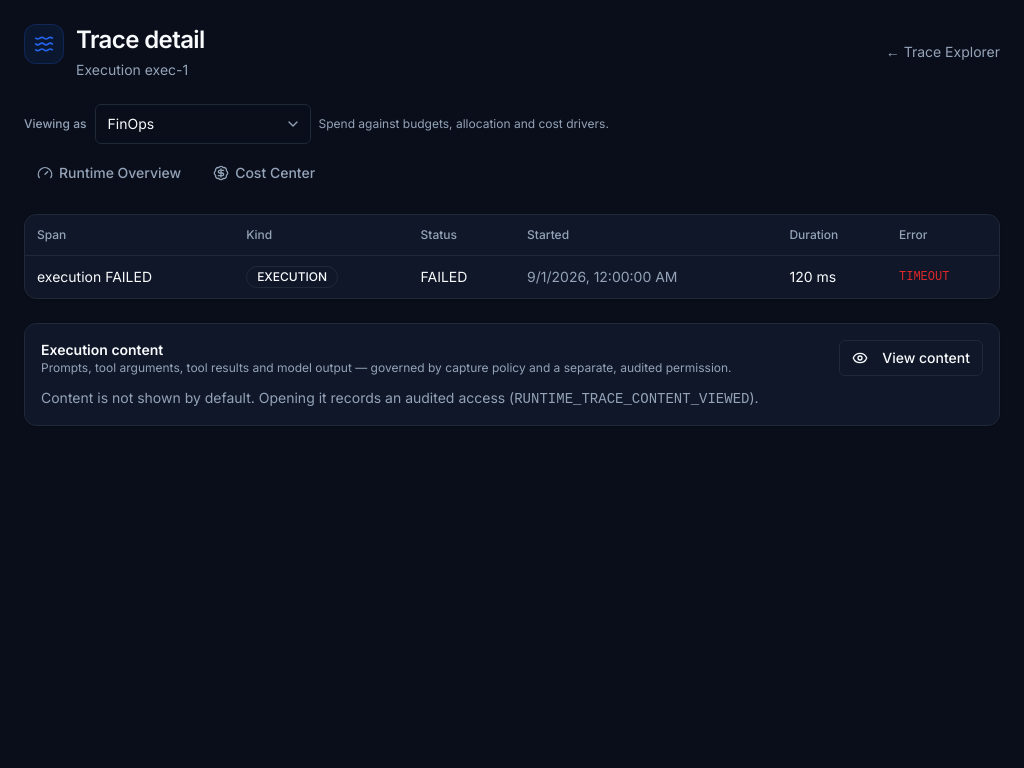
Test: content governance (§4.3) › AC-06 — content is fetched only through the 4.8 endpoint, on explicit request
Click the button "View content".
click(911, 358)  # box [839,340,983,376]
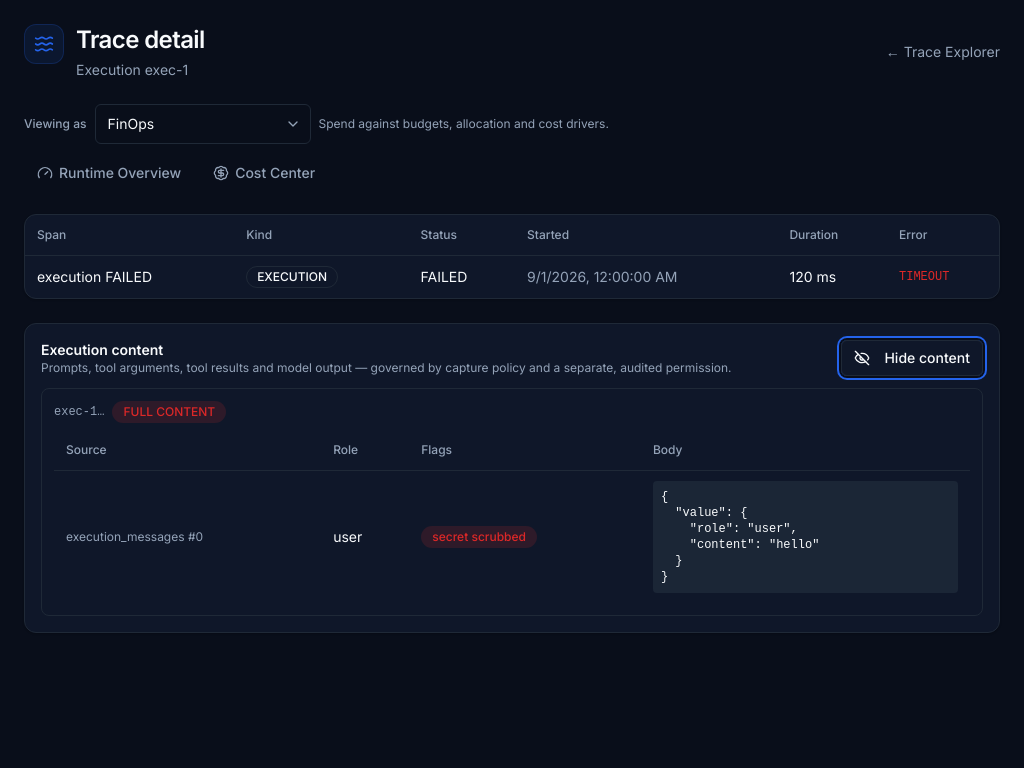
Result: the text "secret scrubbed" is shown at [421,526,537,548]
